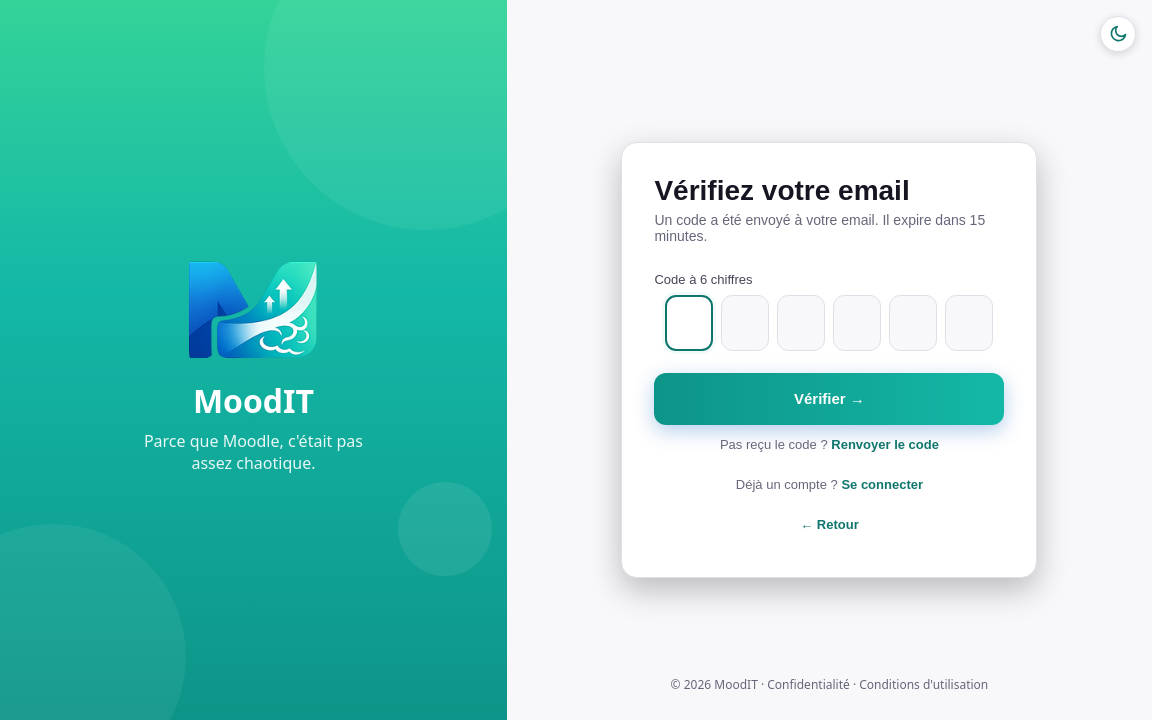
Test: VerifyCode › soumission avec un code incomplet : erreur, aucun appel
The image size is (1152, 720).
Type "1" into the field named "Chiffre 1" at (689, 324), box [665,296,713,352]
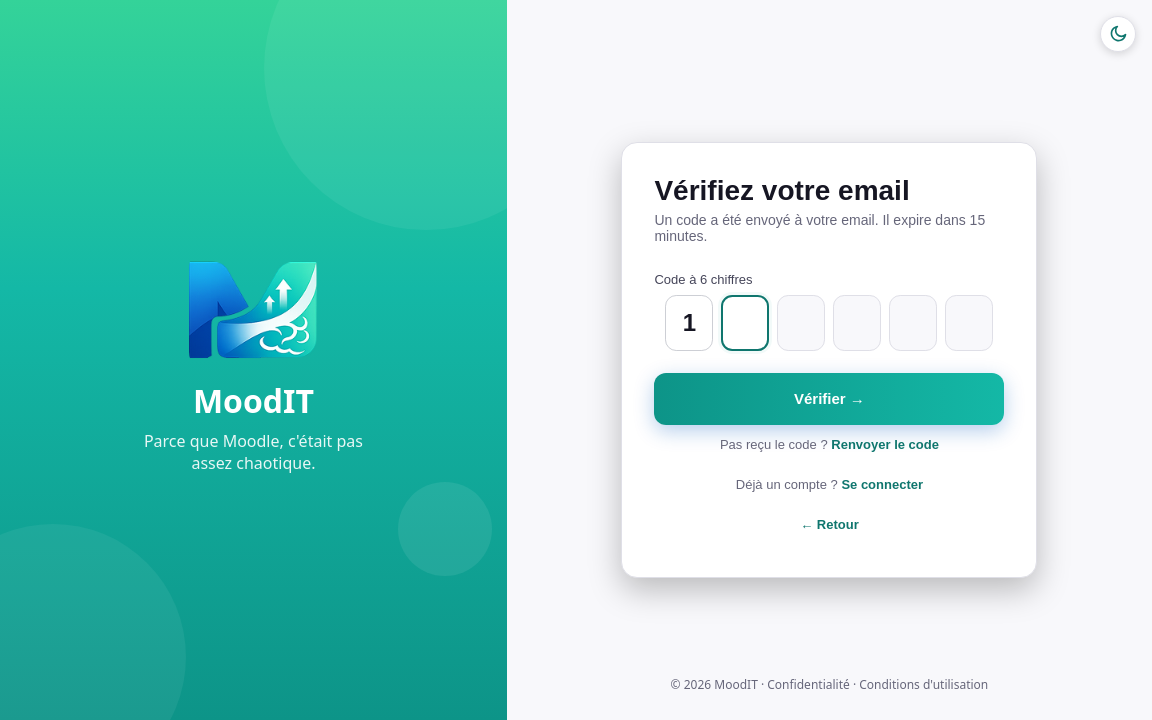
Type "2" into the field named "Chiffre 2" at (745, 324), box [721,296,769,352]
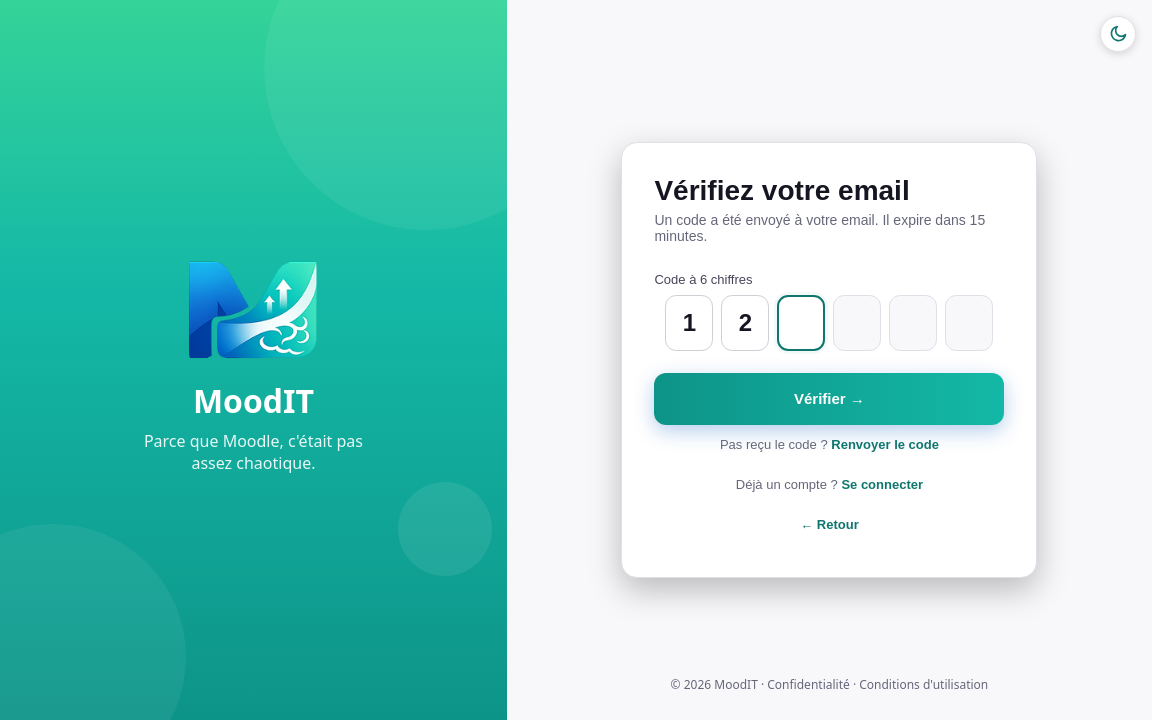
Type "3" into the field named "Chiffre 3" at (801, 324), box [777,296,825,352]
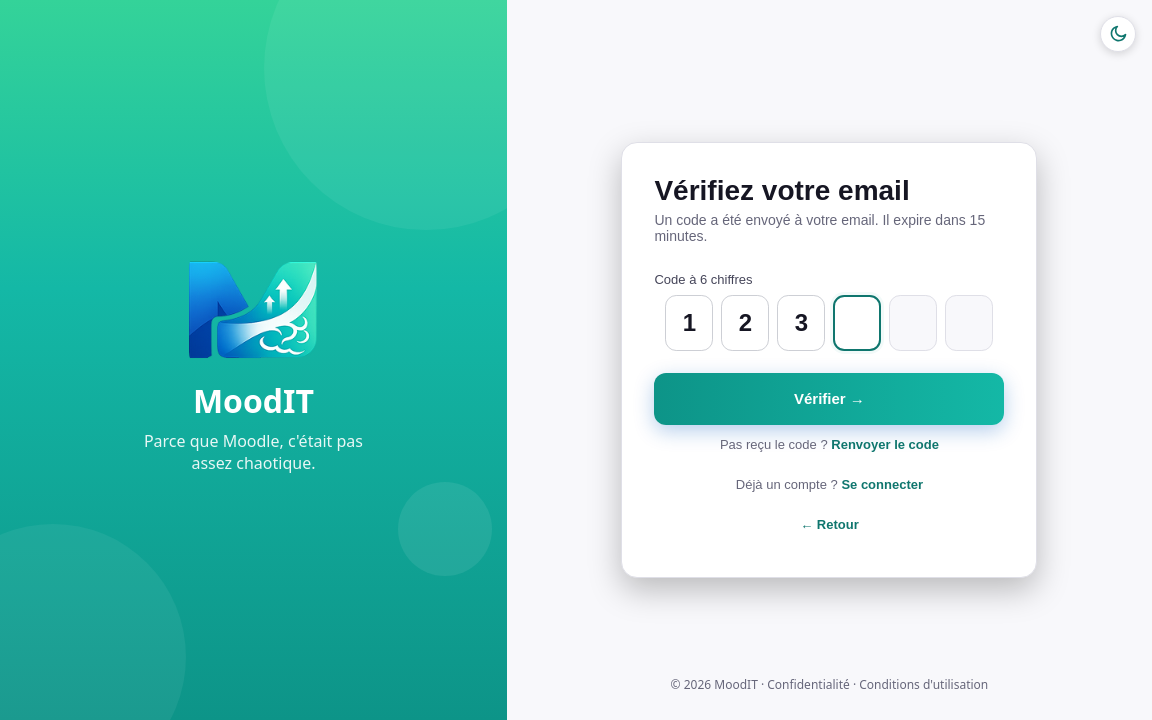
Click the button "Vérifier →" at (829, 399), box [654,373,1004,425]
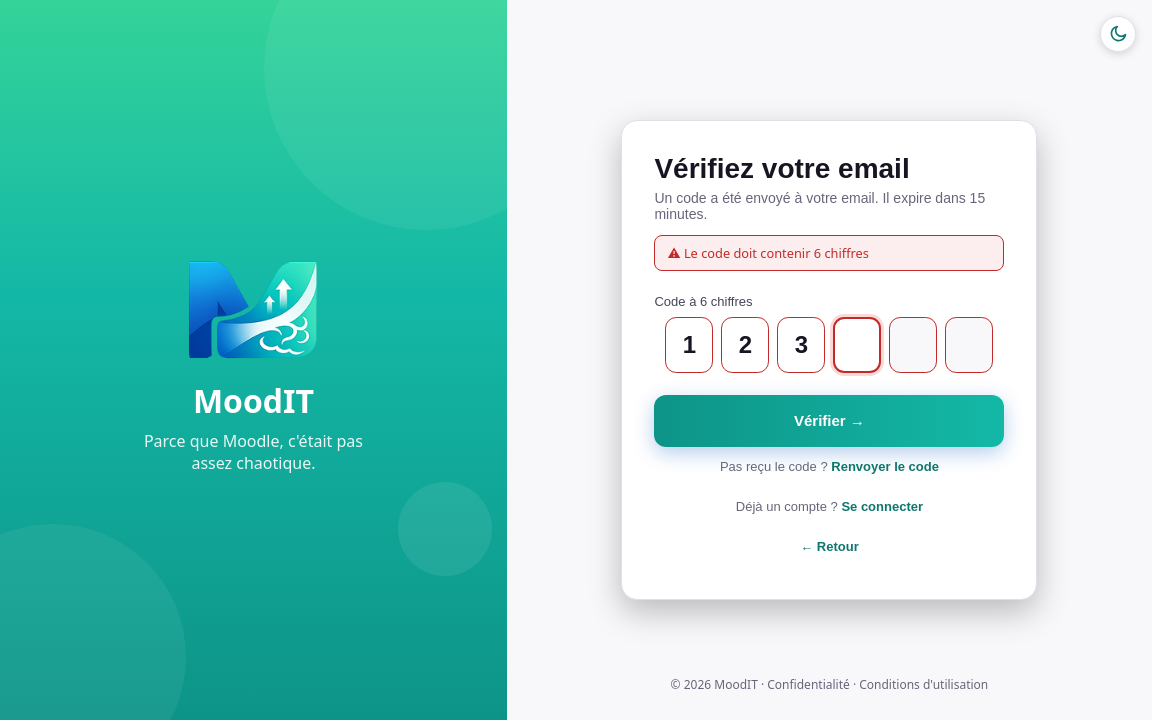
Check: the text "⚠ Le code doit contenir 6 chiffres" is shown, box [654,235,1004,271]
